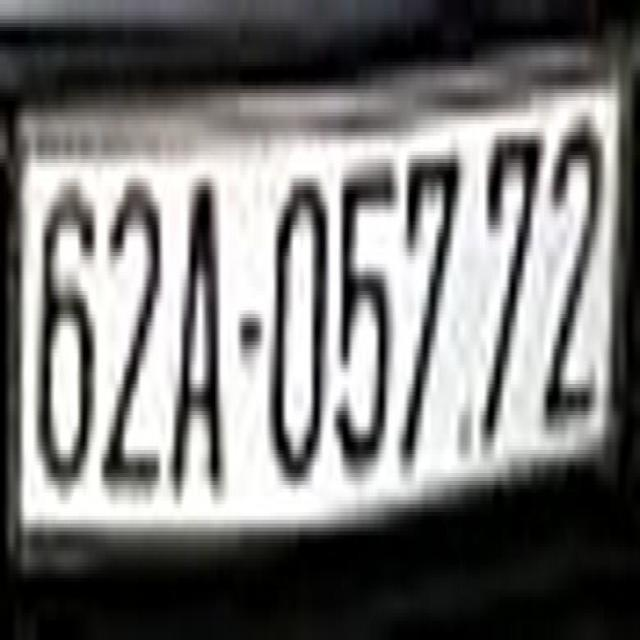0: (268, 124, 326, 500)
2: (542, 86, 604, 438), (104, 140, 162, 512)
5: (332, 128, 396, 485)
6: (36, 166, 94, 508)
7: (397, 117, 458, 470), (480, 97, 538, 450)
A: (168, 143, 228, 520)
